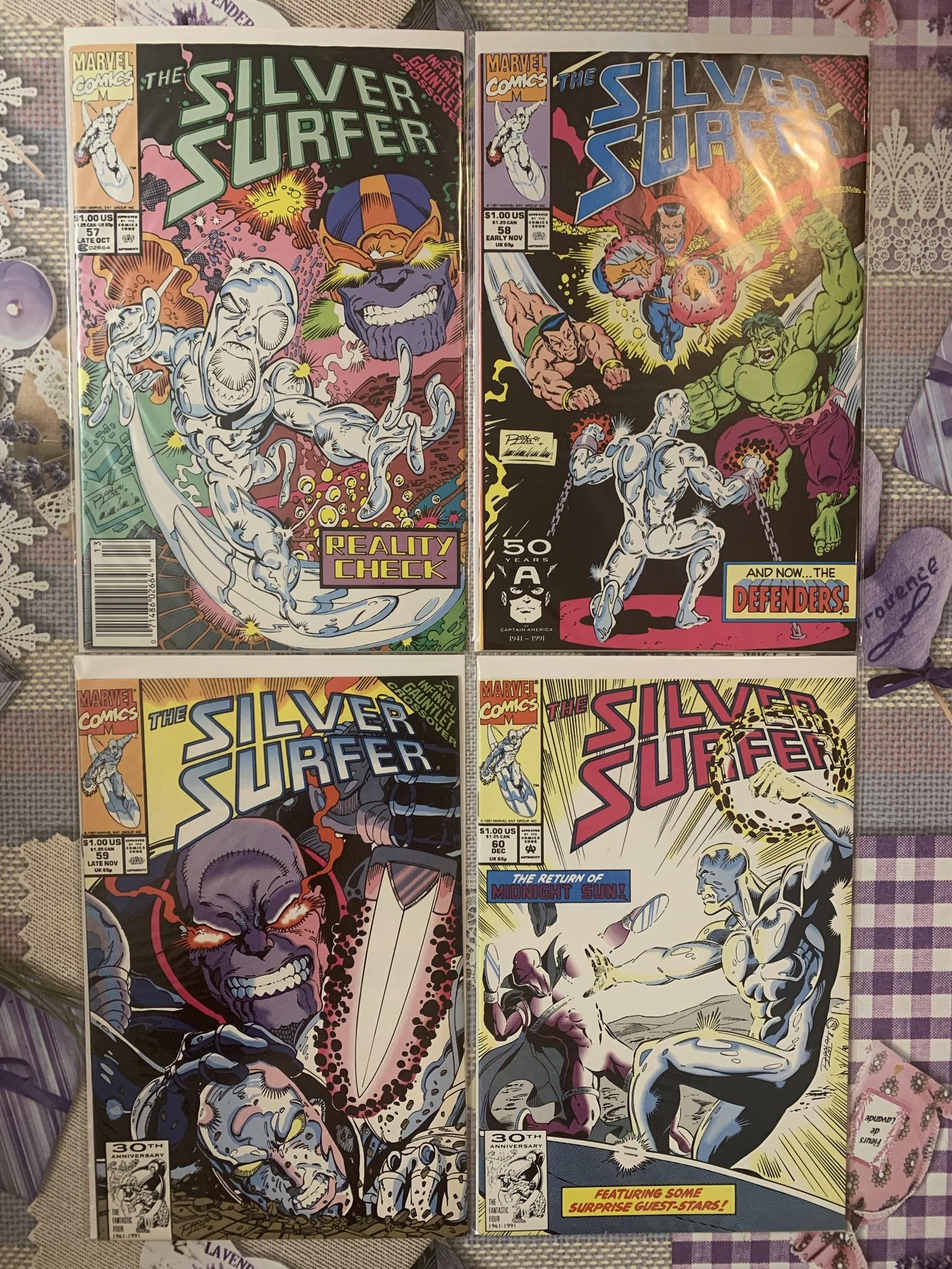comic: (66, 26, 466, 654), (474, 32, 867, 652), (77, 650, 471, 1243), (474, 653, 855, 1236), (893, 328, 951, 493)
